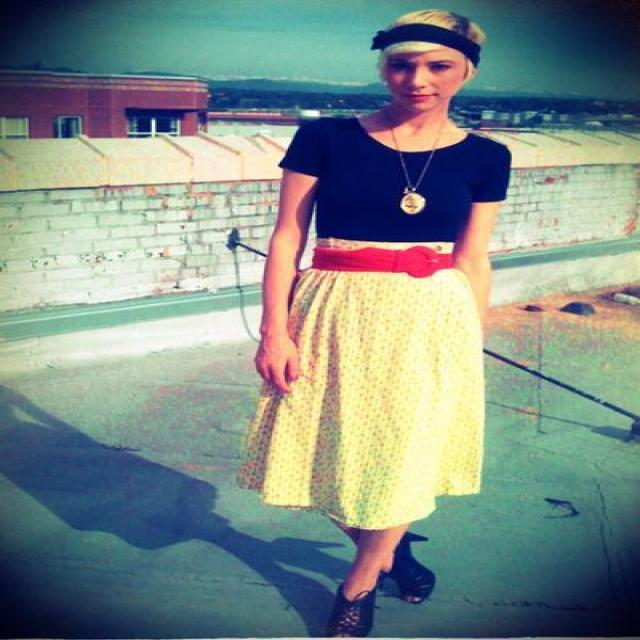hat: (371, 24, 432, 49)
shirt: (278, 115, 511, 242)
shoe: (326, 532, 434, 637)
skirt: (235, 238, 493, 529)
